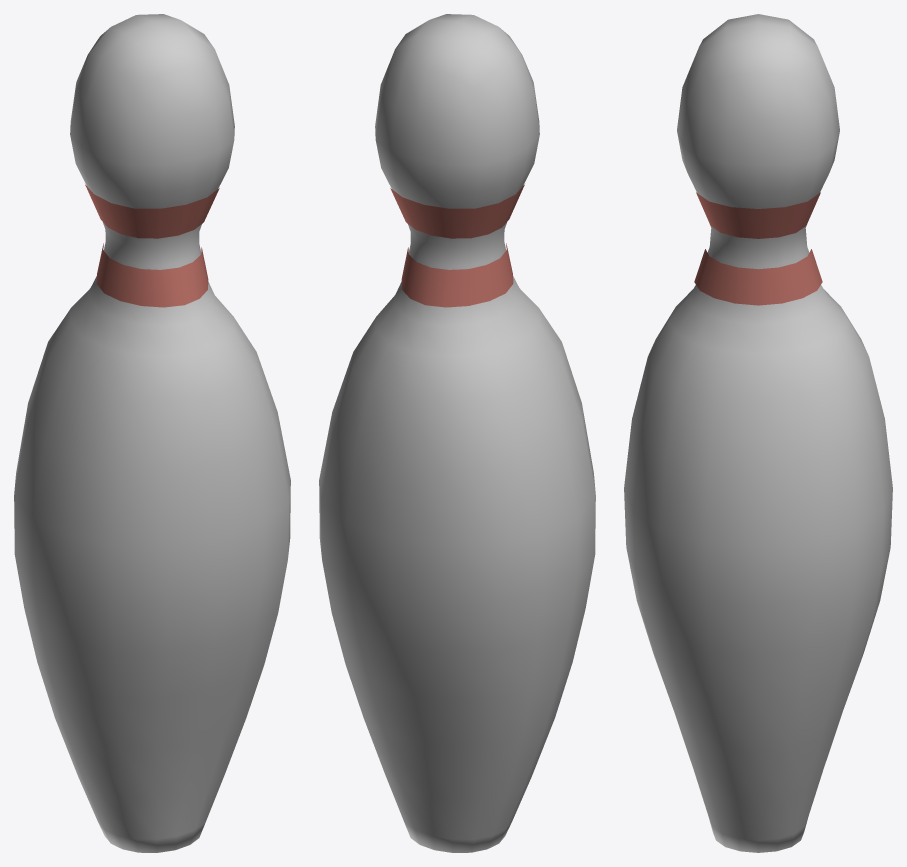
File: spin-bowling.glb
3 views of the same model, side by side, from view 1: azimuth 30°, elevation 25°; view 2: azimuth 150°, elevation 25°; view 3: azimuth 270°, elevation 25° (orthographic).
Parts seen in each view (by area): view 1: bowl, redline; view 2: bowl, redline; view 3: bowl, redline.
Part boxes in pixels (<box>): bowl: <box>14,14,290,852</box>; redline: <box>85,184,219,307</box>; bowl: <box>319,14,595,852</box>; redline: <box>390,184,524,307</box>; bowl: <box>624,14,892,852</box>; redline: <box>694,192,822,305</box>.
Size of the model in its own units: 0.6039 by 1.95 by 0.5872.
